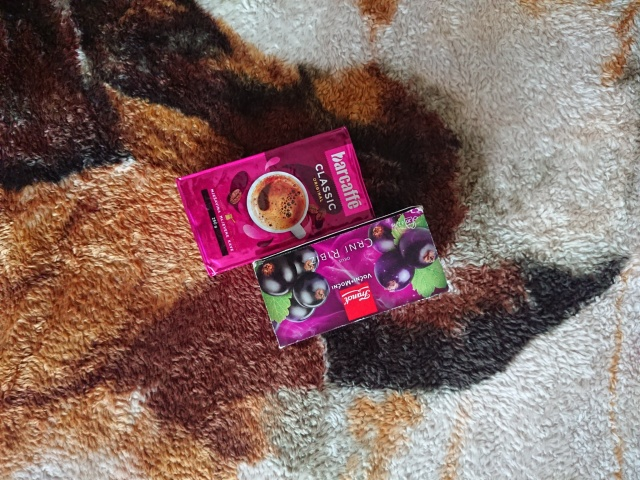Barcaffe Classic Original 225g: (172, 122, 378, 281)
Franck Black Currant Tea 60g: (248, 201, 453, 352)
